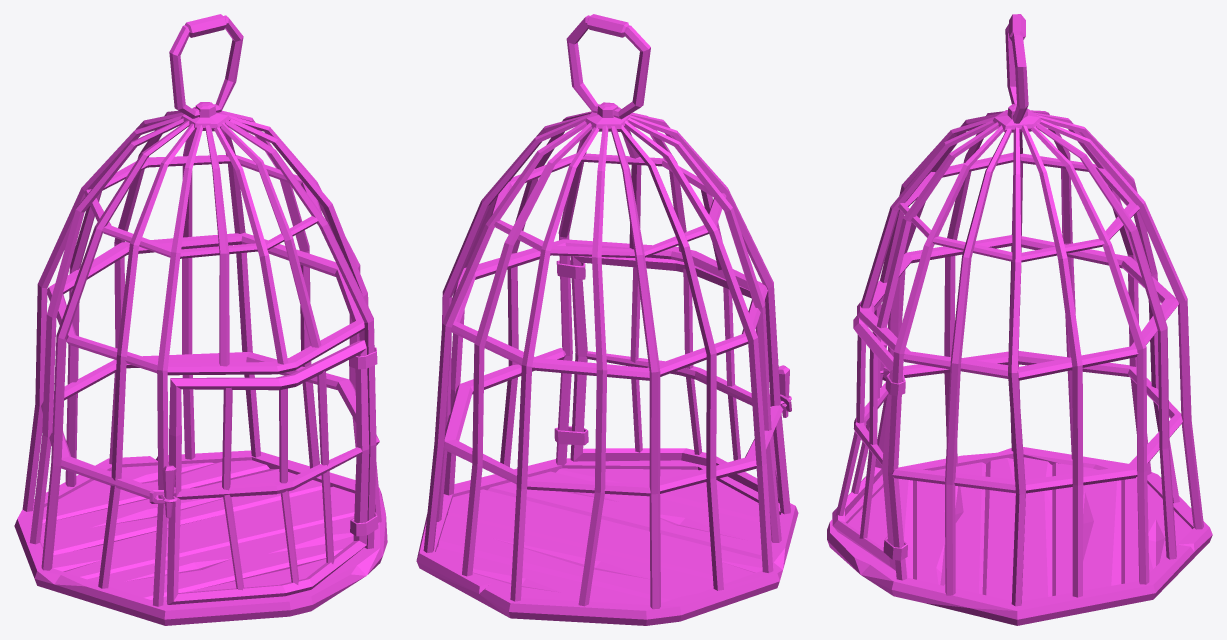
Rendered from SM_Cage_Bird_Fantasy.fbx.
3 renders of one model, left to right at view 1: azimuth 30°, elevation 25°; view 2: azimuth 150°, elevation 25°; view 3: azimuth 270°, elevation 25°, orthographic.
Visible parts, largest first — view 1: SM_Cage_Bird_Fantasy_Base, SM_Cage_Bird_Fantasy_Door, SM_Cage_Bird_Fantasy_Lock; view 2: SM_Cage_Bird_Fantasy_Base, SM_Cage_Bird_Fantasy_Door; view 3: SM_Cage_Bird_Fantasy_Base, SM_Cage_Bird_Fantasy_Door.
Part boxes in pixels (x1,y1,x2,y2): SM_Cage_Bird_Fantasy_Base: (14, 14, 387, 625); SM_Cage_Bird_Fantasy_Door: (149, 340, 369, 604); SM_Cage_Bird_Fantasy_Lock: (162, 465, 176, 518); SM_Cage_Bird_Fantasy_Base: (416, 14, 798, 625); SM_Cage_Bird_Fantasy_Door: (570, 256, 791, 502); SM_Cage_Bird_Fantasy_Base: (827, 14, 1212, 625); SM_Cage_Bird_Fantasy_Door: (832, 272, 903, 570).
Bounding box in the file's own units: 0.3939 × 0.5693 × 0.383.
